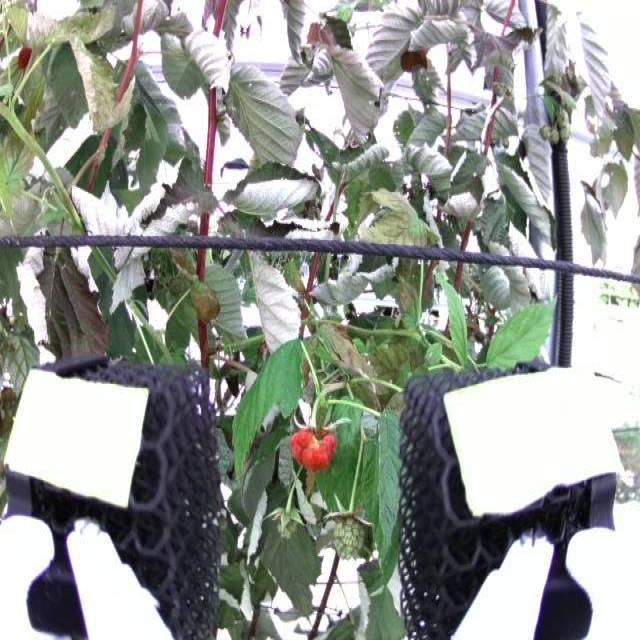Riped berries: (288, 423, 338, 473)
